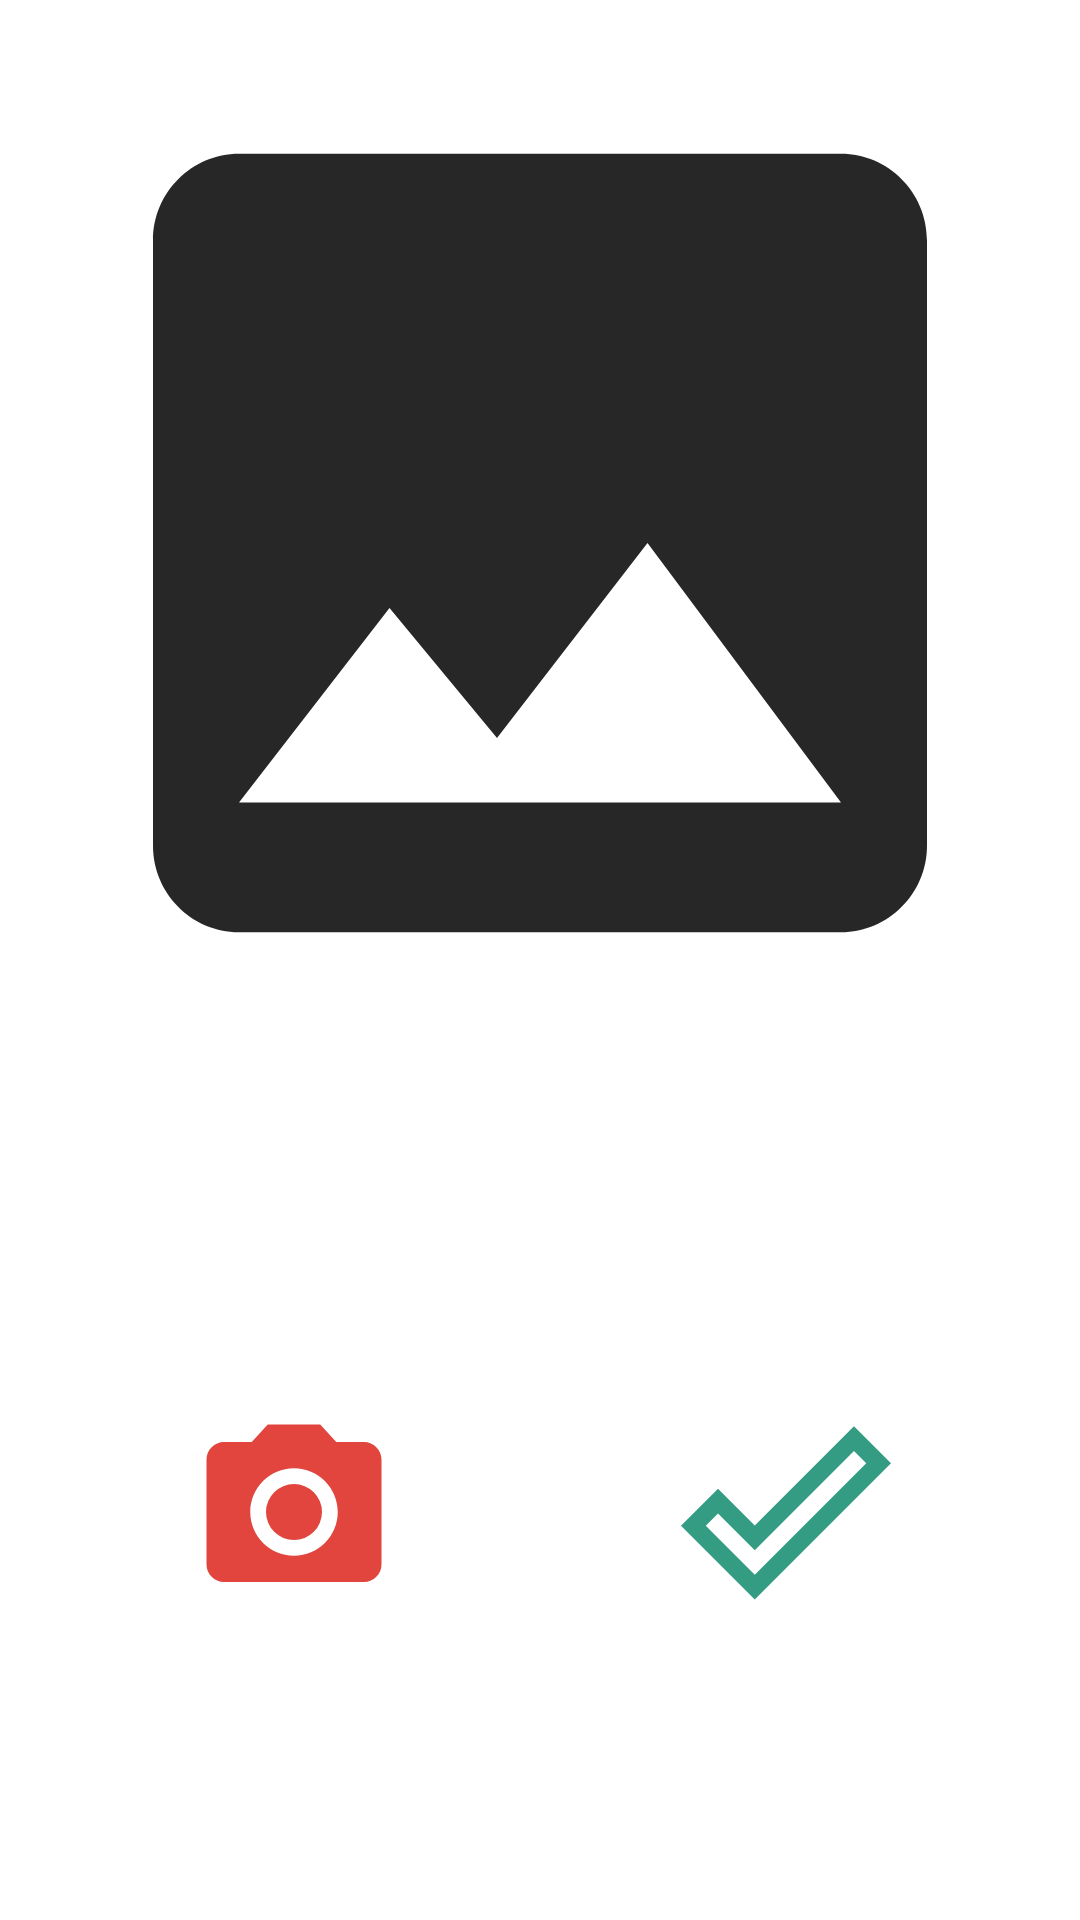

Icon bounding boxes for this 1080w x 1920h phone screenshot, format box=[x1, y1, x2, y2]:
camera: box=[206, 1424, 382, 1582]
done: box=[681, 1426, 891, 1600]
